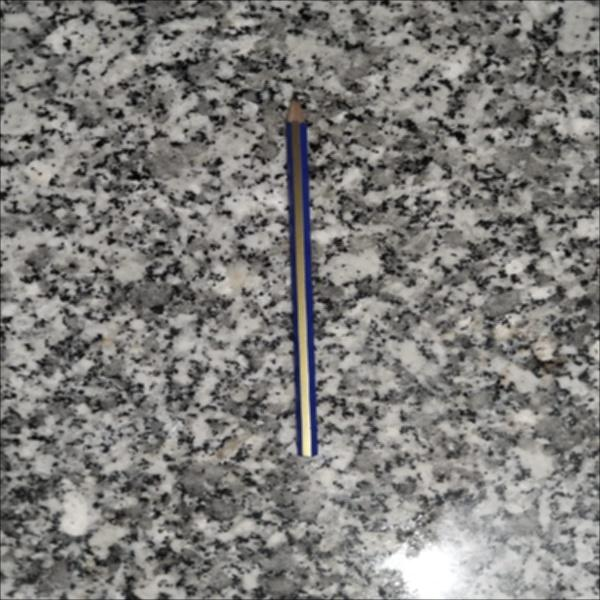pencil: (281, 90, 327, 467)
